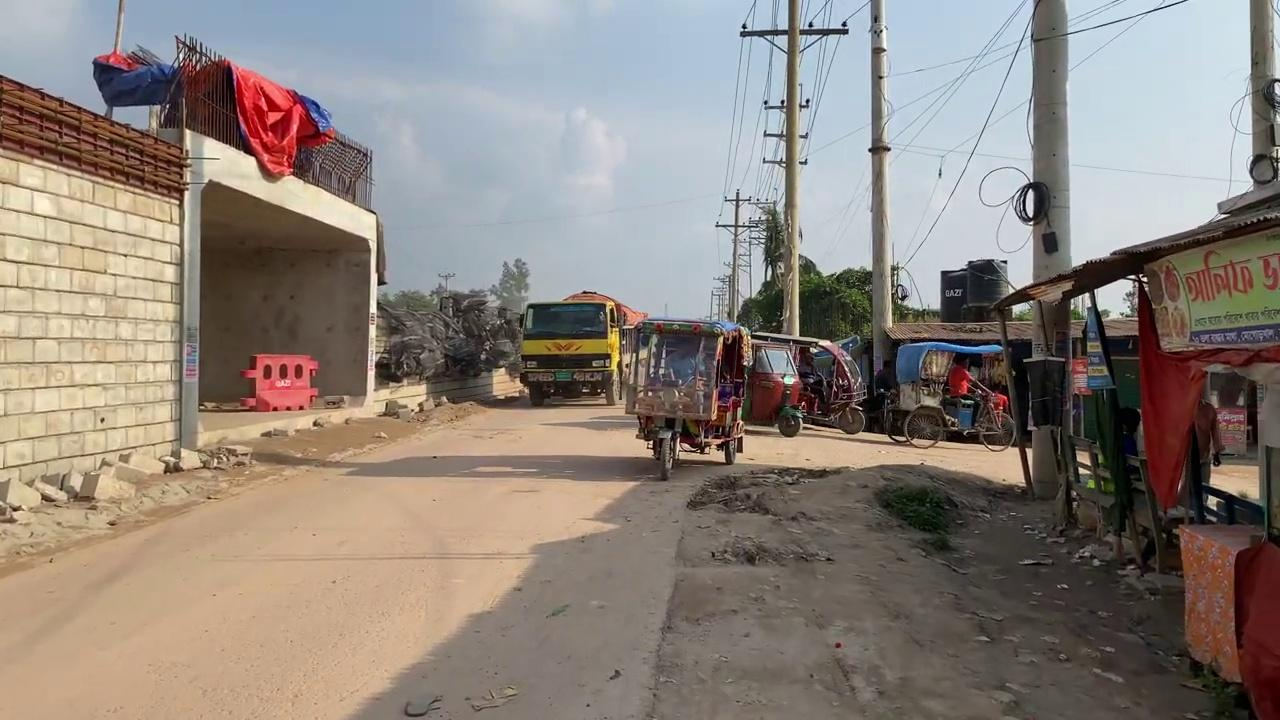Construction-barrier: (238, 352, 319, 411)
Garbage: (375, 291, 522, 382)
Muddy road: (1, 389, 1237, 718)
Pole: (1028, 0, 1075, 514), (867, 0, 894, 396), (780, 1, 802, 336), (1248, 0, 1277, 186)
Tree: (621, 316, 750, 480), (517, 289, 648, 406), (882, 339, 1017, 451)
